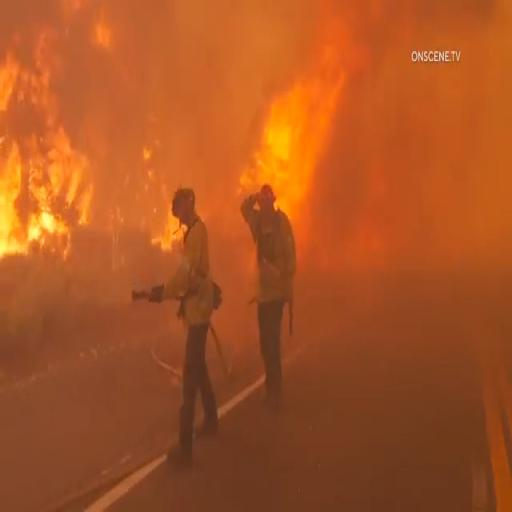fire: (0, 54, 94, 266), (264, 82, 324, 203)
smoke: (375, 103, 512, 277), (133, 14, 242, 122)
